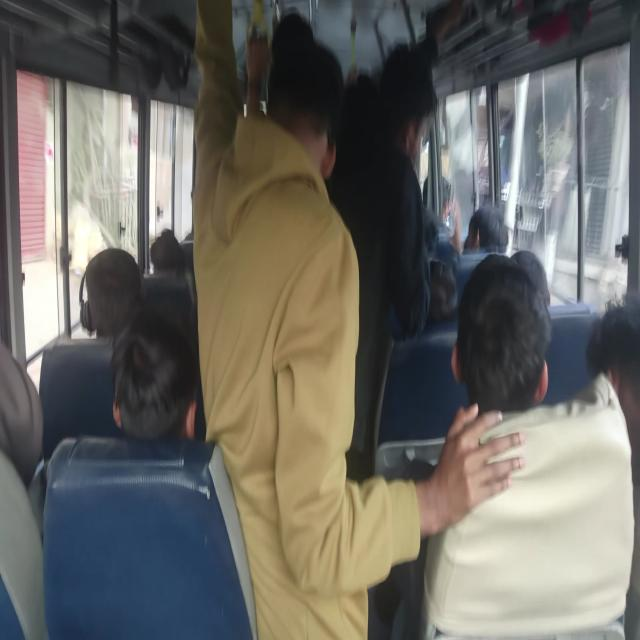person: (453, 254, 552, 415), (265, 9, 343, 182), (109, 306, 204, 443), (376, 49, 442, 180), (79, 247, 142, 341), (586, 300, 640, 396), (463, 206, 508, 254), (428, 258, 459, 324), (149, 229, 185, 275), (433, 234, 464, 266)
